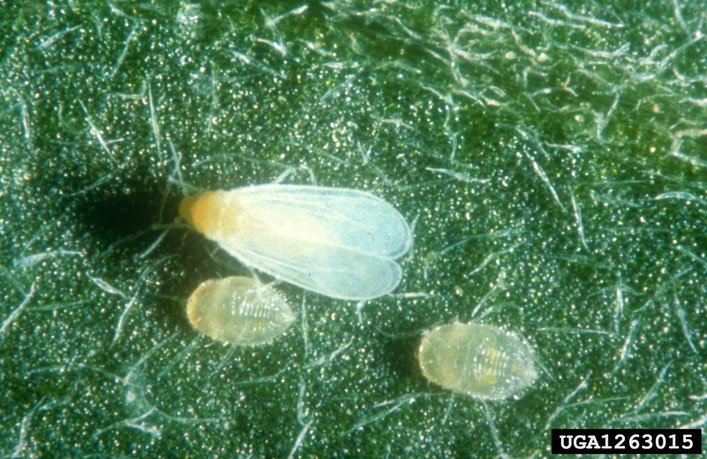whitefly: (147, 149, 412, 309)
